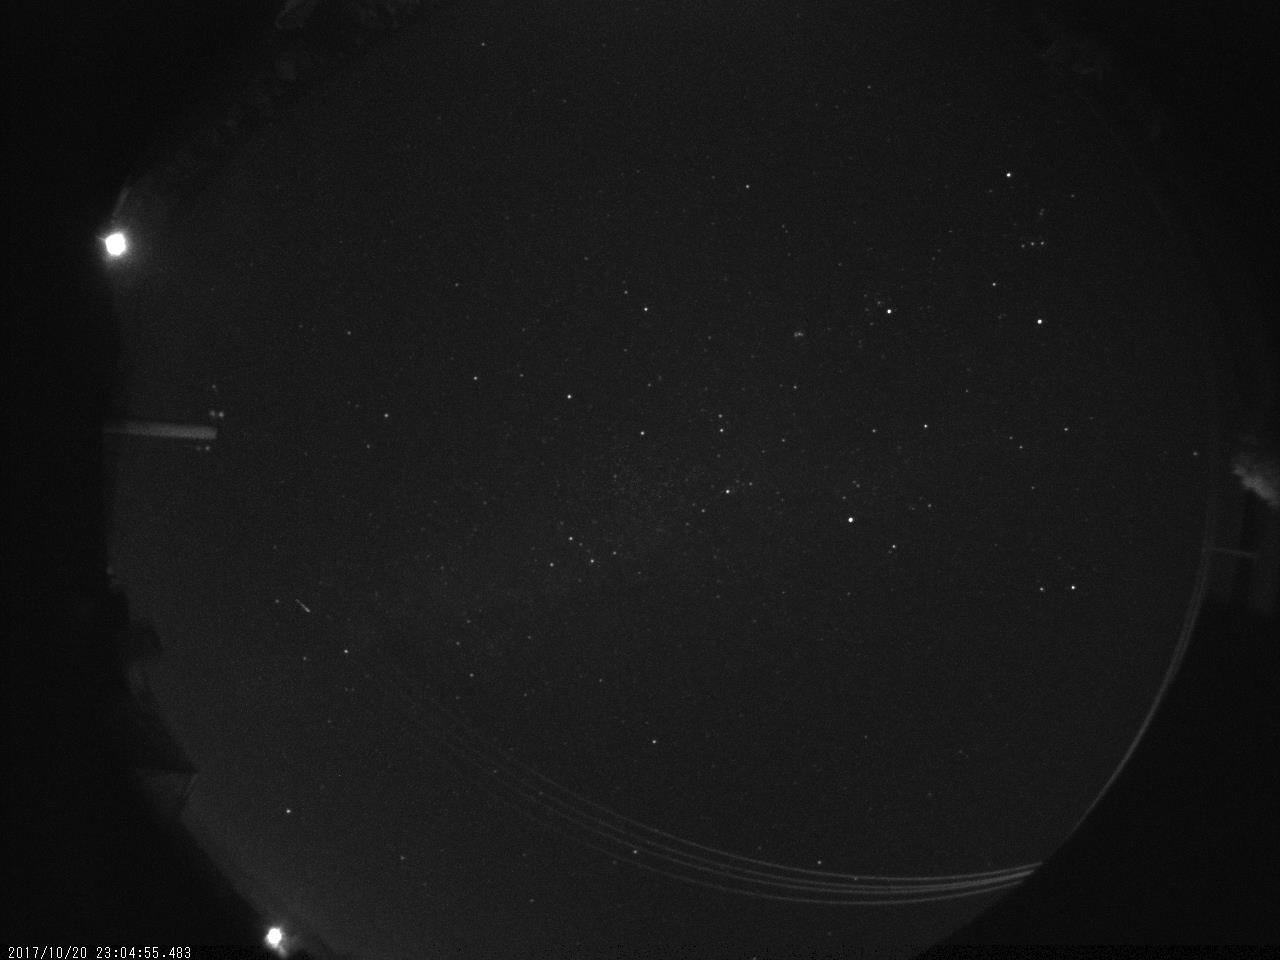Meteor: (292, 594, 314, 616)
